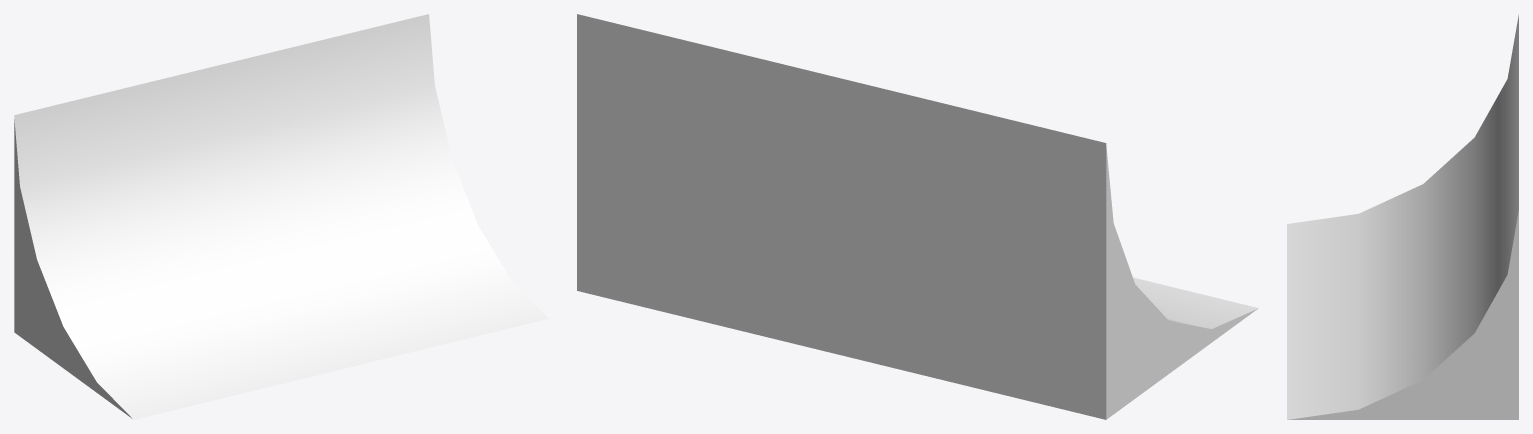
File: halfpipe_in.glb
3 renders of one model, left to right at view 1: azimuth 30°, elevation 25°; view 2: azimuth 150°, elevation 25°; view 3: azimuth 270°, elevation 25°, orthographic. The views are drawn at different scales.
Parts seen in each view (by area): view 1: halfpipe_in; view 2: halfpipe_in; view 3: halfpipe_in.
Boxes of the visible parts, left/top/right/bottom form: halfpipe_in: left=14, top=14, right=548, bottom=419; halfpipe_in: left=577, top=14, right=1258, bottom=419; halfpipe_in: left=1287, top=14, right=1518, bottom=419.
Size of the model in its own units: 1 by 0.5 by 0.5.
Materials: 1 (1 with a texture image).
